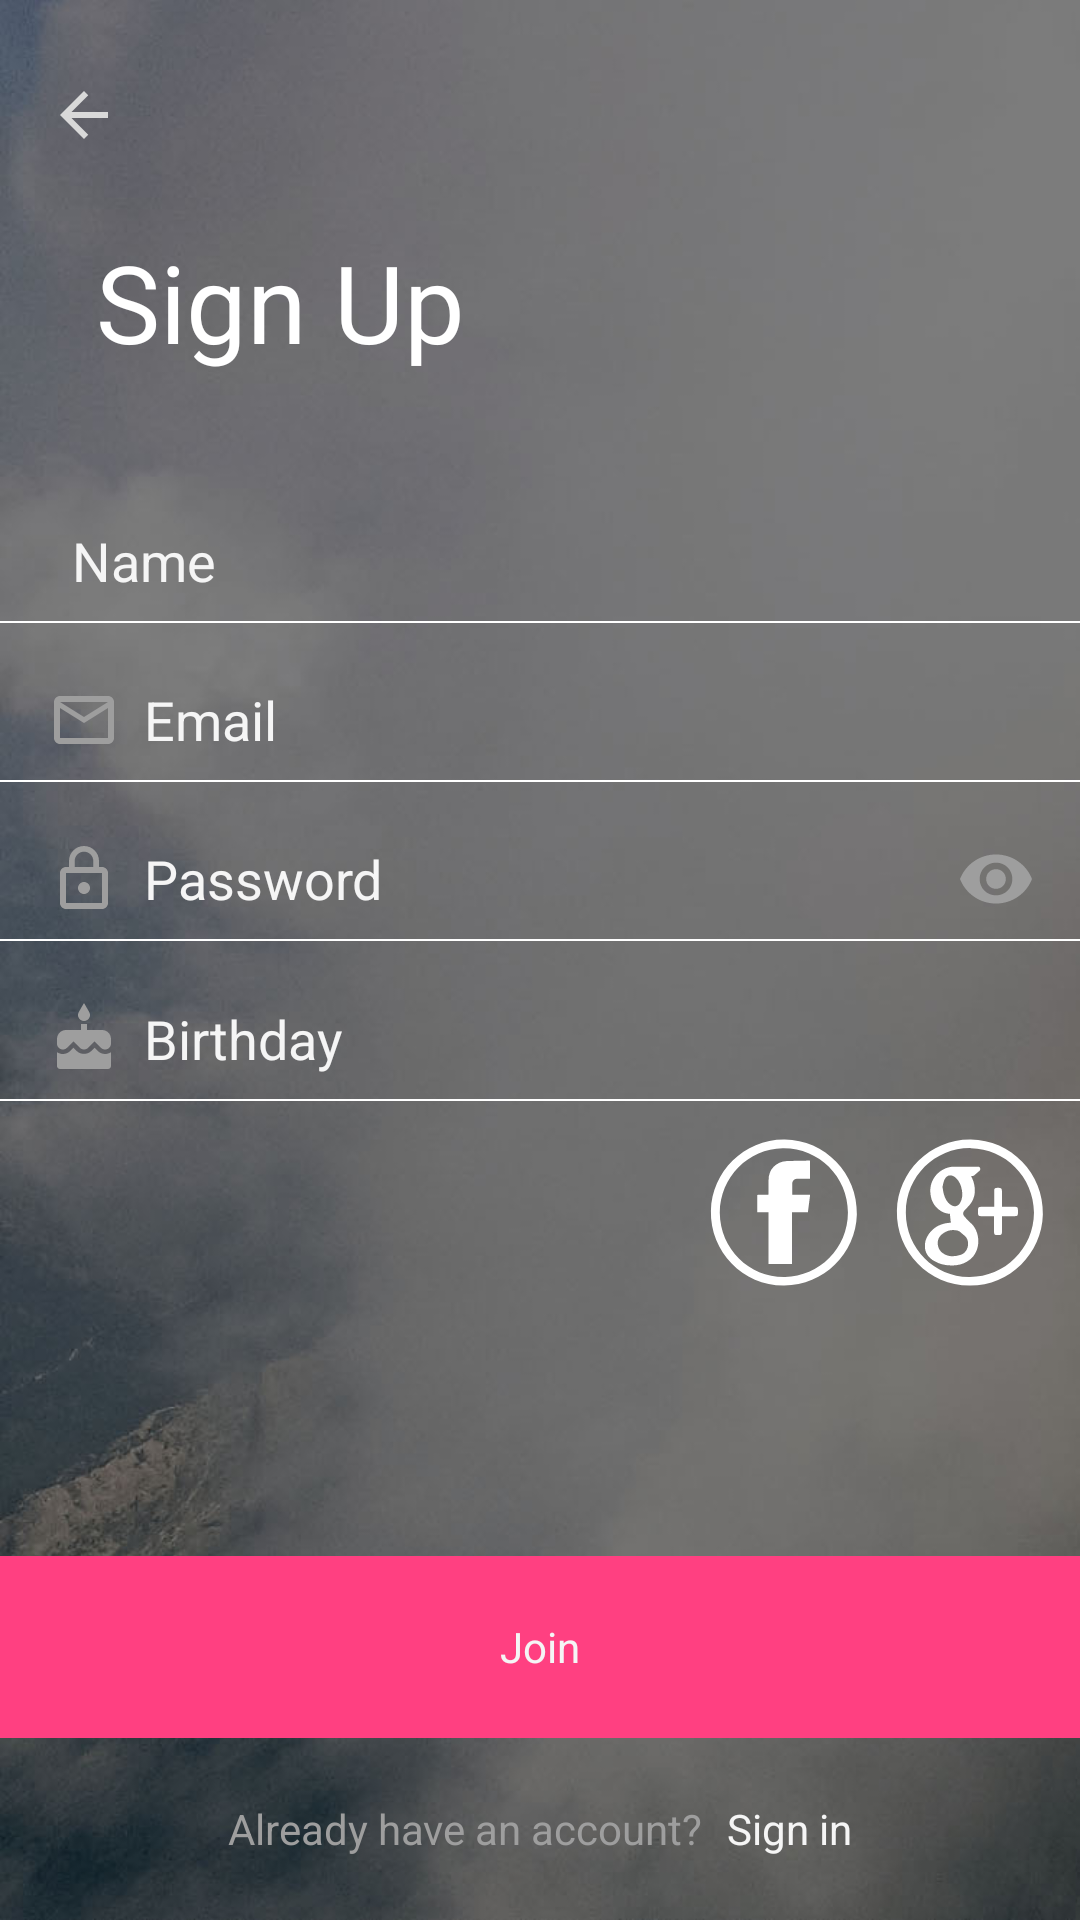

Icon bounding boxes for this 1080w x 1920h phone screenshot, format (x1, y1, x2, y2):
lock: (60, 843, 108, 909)
visibility: (960, 855, 1032, 903)
